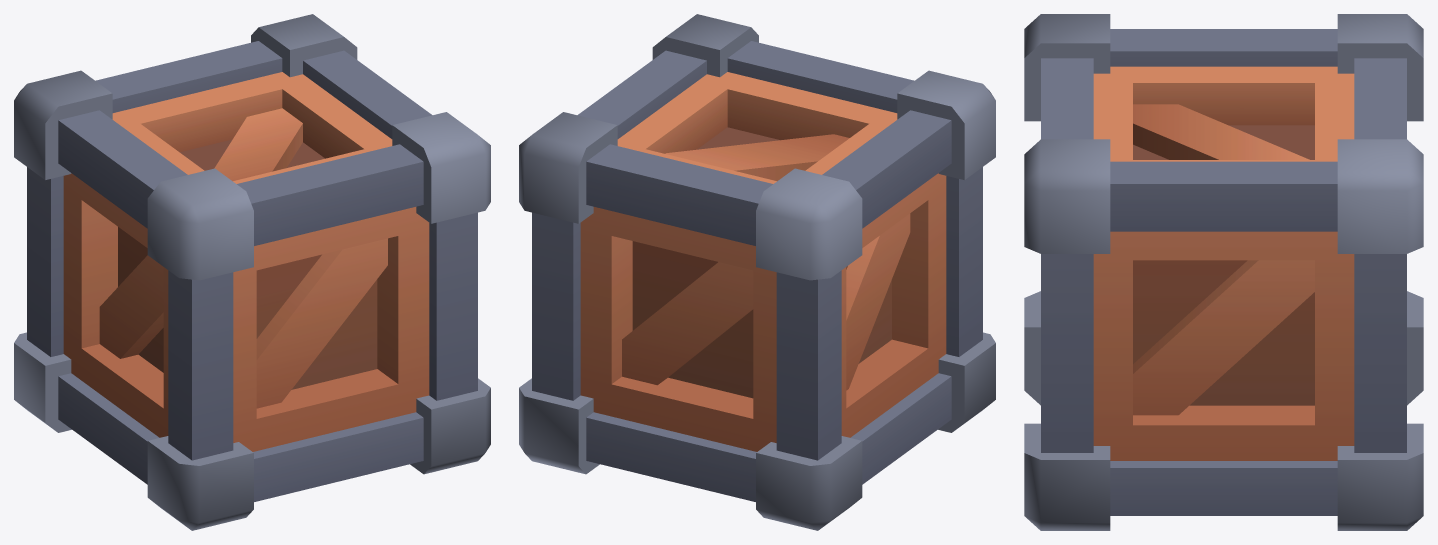
The model's file is kenney-platformer-crate-strong.glb.
3 renders of one model, left to right at view 1: azimuth 30°, elevation 25°; view 2: azimuth 150°, elevation 25°; view 3: azimuth 270°, elevation 25°, orthographic. The views are drawn at different scales.
Parts seen in each view (by area): view 1: crate-strong; view 2: crate-strong; view 3: crate-strong.
Part boxes in pixels (x1,y1,x2,y2): crate-strong: (14,14,490,530); crate-strong: (519,14,995,530); crate-strong: (1024,14,1423,530).
Size of the model in its own units: 0.6 by 0.6 by 0.6.
Materials: 1 (1 with a texture image).
